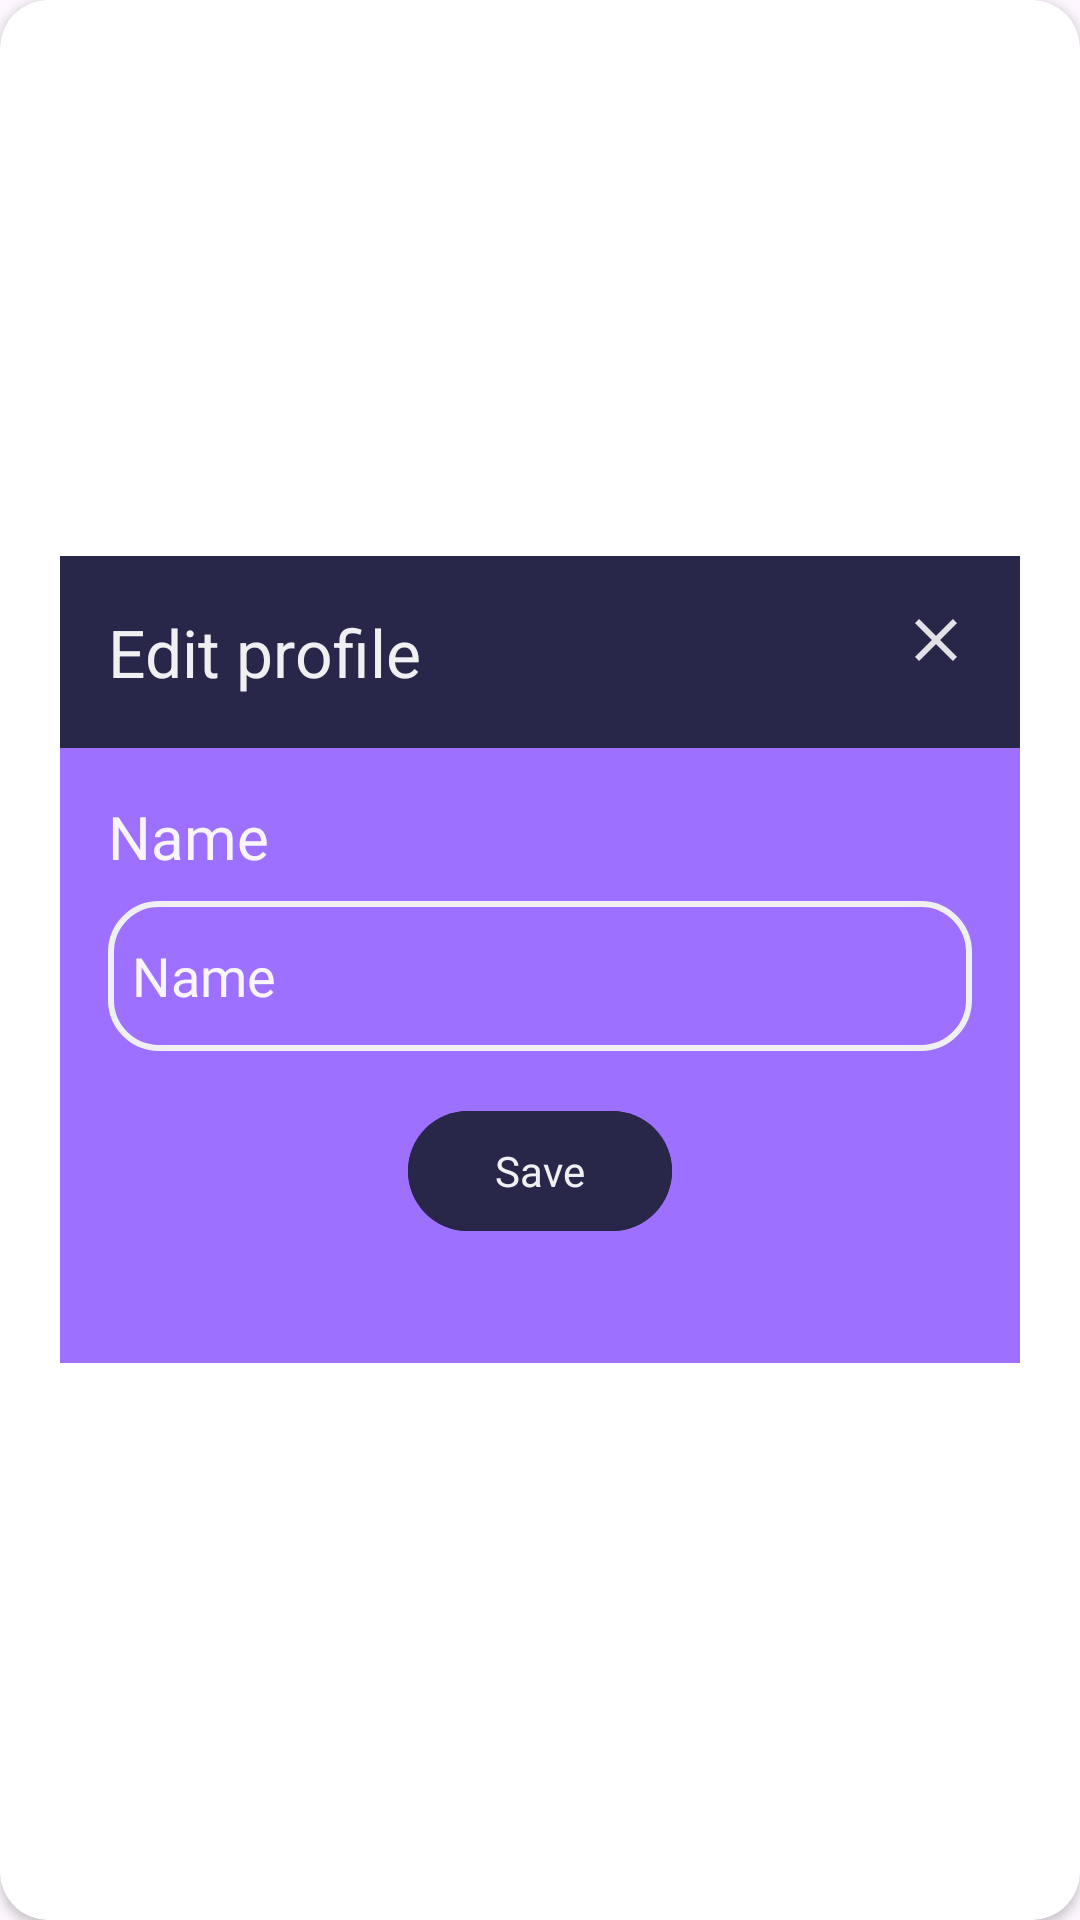

Screen size 1080×1920. Icon name, then its box in pixels as detection(x1, y1, x2, y2):
cancel: detection(915, 619, 957, 661)
